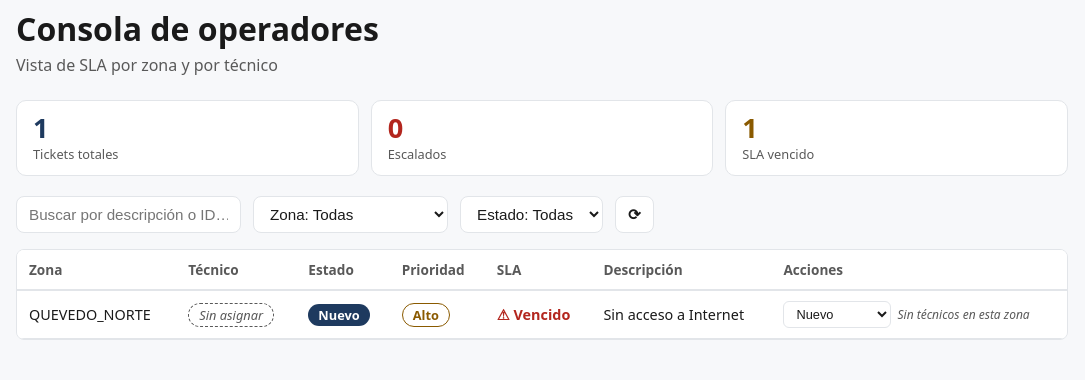
ConsolePage › muestra el estado vacio cuando el filtro no encuentra nada
Expected: the text "Sin acceso a Internet" is shown, [591, 290, 771, 339]
Step 1. Type "texto que no existe en ningun ticket" into the field with placeholder "Buscar por descripción o ID…" → [128, 215], box [16, 196, 241, 233]
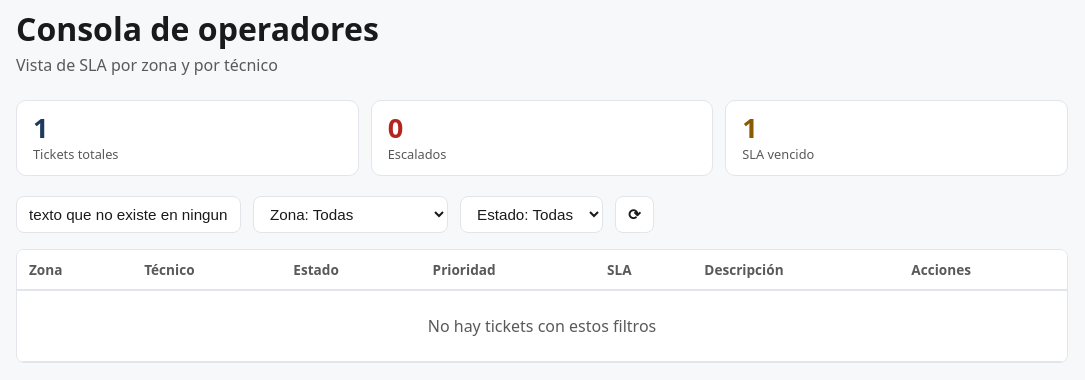
Expected: the text "No hay tickets con estos filtros" is shown, [17, 290, 1067, 362]
